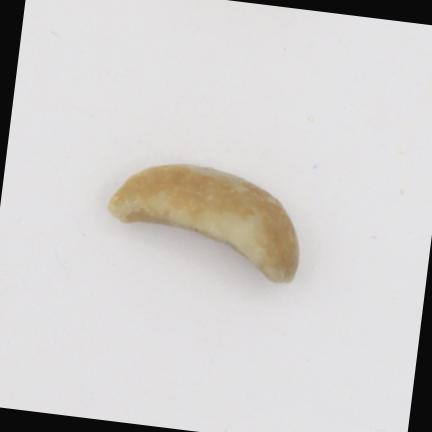shell: (108, 164, 298, 280)
